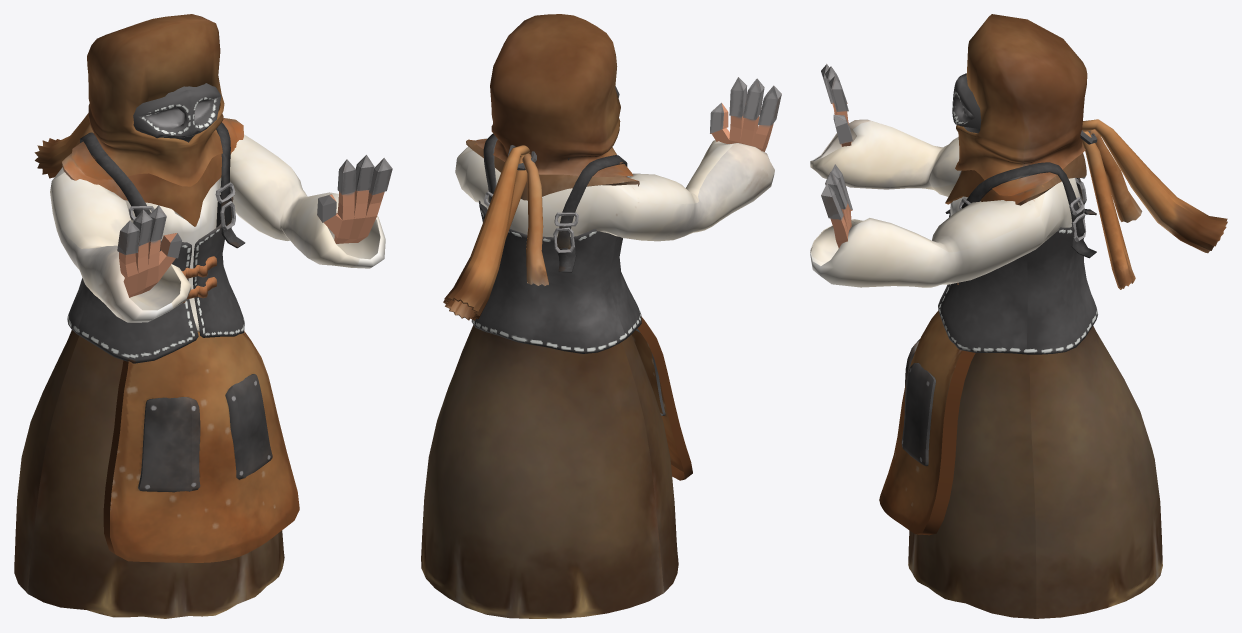
The model's file is Redirect Wizard Posed Final.fbx.
The picture shows the model from 3 angles, left to right: view 1: azimuth 30°, elevation 25°; view 2: azimuth 150°, elevation 25°; view 3: azimuth 270°, elevation 25°; orthographic projection. The views are drawn at different scales.
Parts seen in each view (by area): view 1: RedirectWizard.008; view 2: RedirectWizard.008; view 3: RedirectWizard.008.
Part boxes in pixels (x1,y1,x2,y2): RedirectWizard.008: (14,14,392,618); RedirectWizard.008: (421,14,781,618); RedirectWizard.008: (810,14,1227,618).
Size of the model in its own units: 96.37 by 193 by 135.
